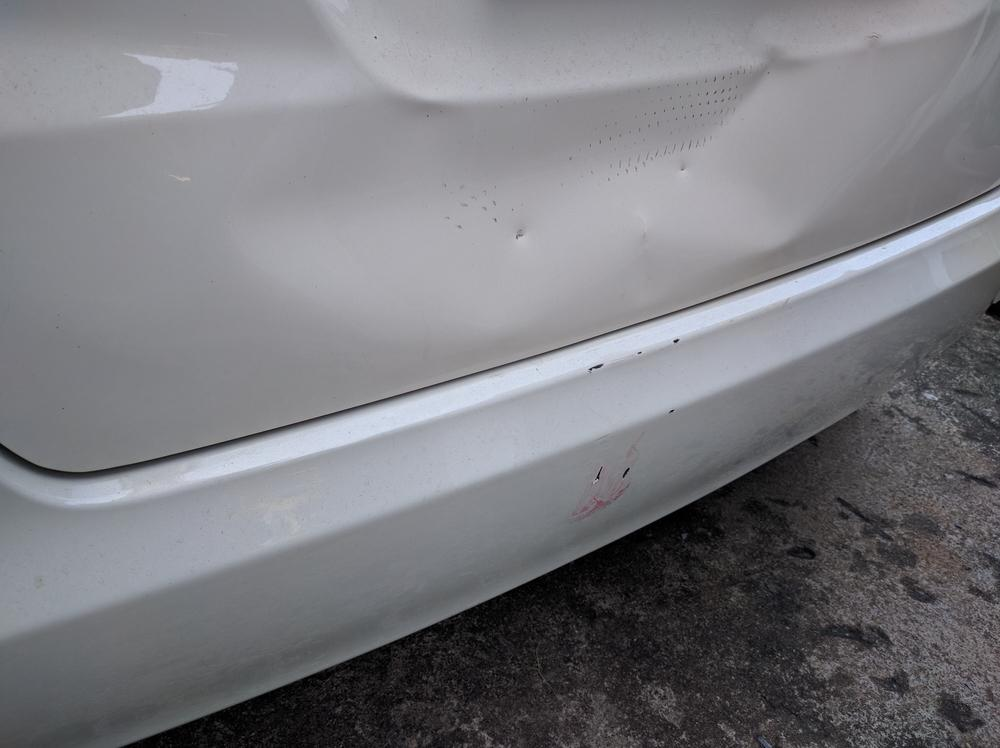dent: (212, 11, 997, 337)
